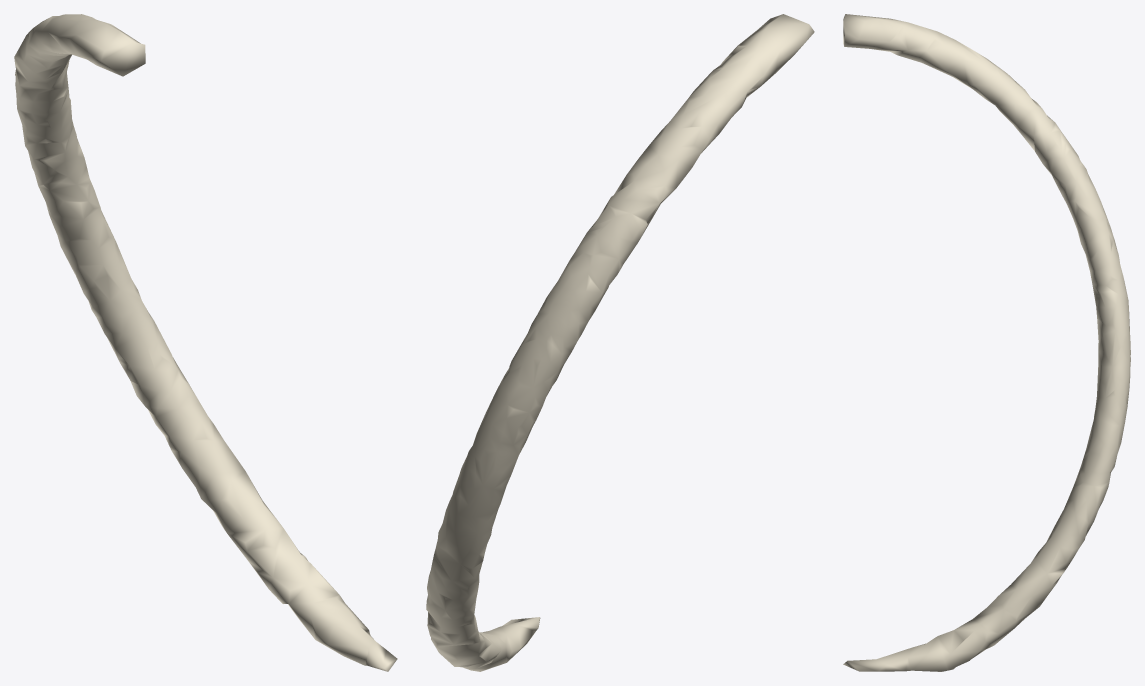
Rendered from rib_3_r.glb.
3 views of the same model, side by side, from view 1: azimuth 30°, elevation 25°; view 2: azimuth 150°, elevation 25°; view 3: azimuth 270°, elevation 25° (orthographic). The views are drawn at different scales.
Parts seen in each view (by area): view 1: geometry_0; view 2: geometry_0; view 3: geometry_0.
Part boxes in pixels (<box>): geometry_0: <box>14,14,397,671</box>; geometry_0: <box>426,14,814,671</box>; geometry_0: <box>843,14,1130,671</box>.
Size of the model in its own units: 0.2241 by 0.4791 by 0.228.
